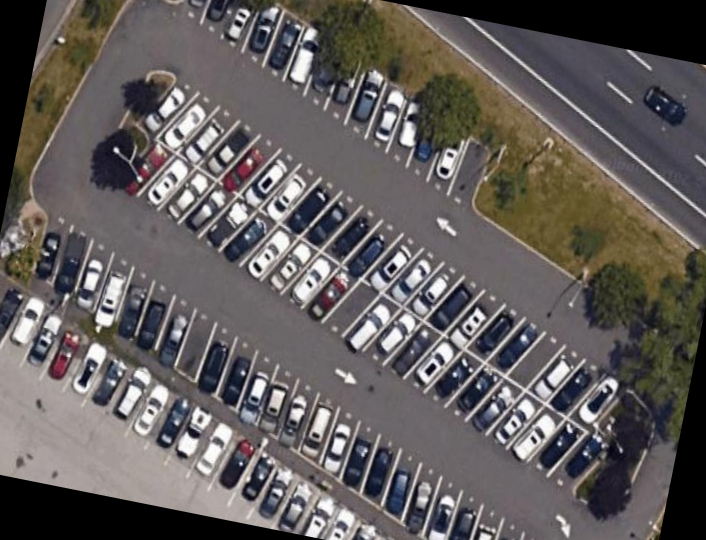parkingspot: (99, 72, 635, 497), (29, 204, 542, 540), (0, 271, 394, 540), (178, 0, 494, 216)
